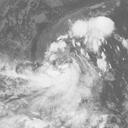cyclone: (28, 54, 92, 114)
